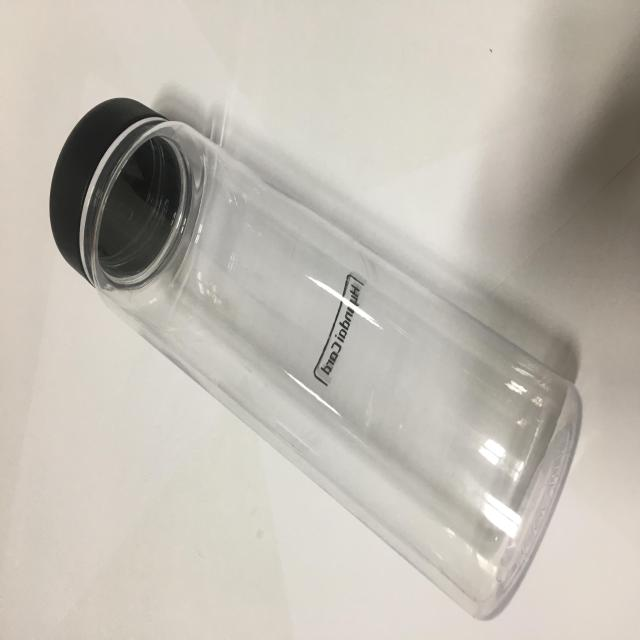bottle: (47, 95, 585, 619)
